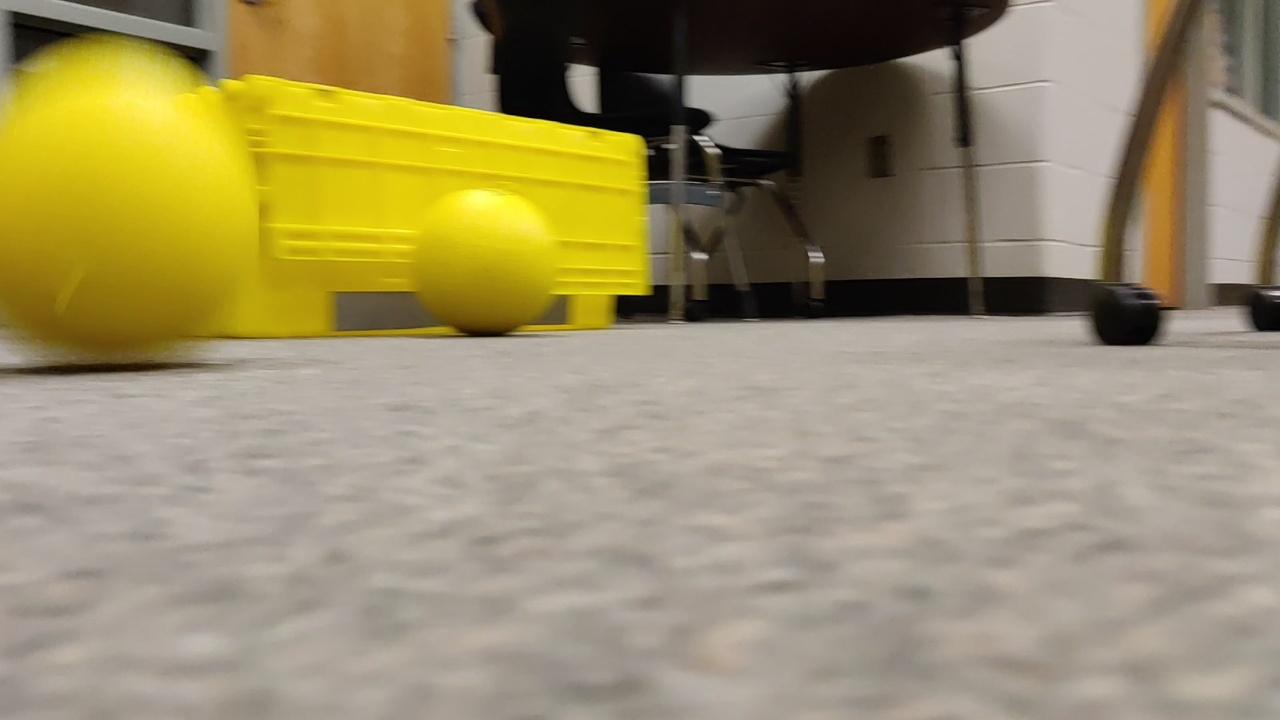Ball: (3, 45, 258, 389), (418, 187, 561, 348)
